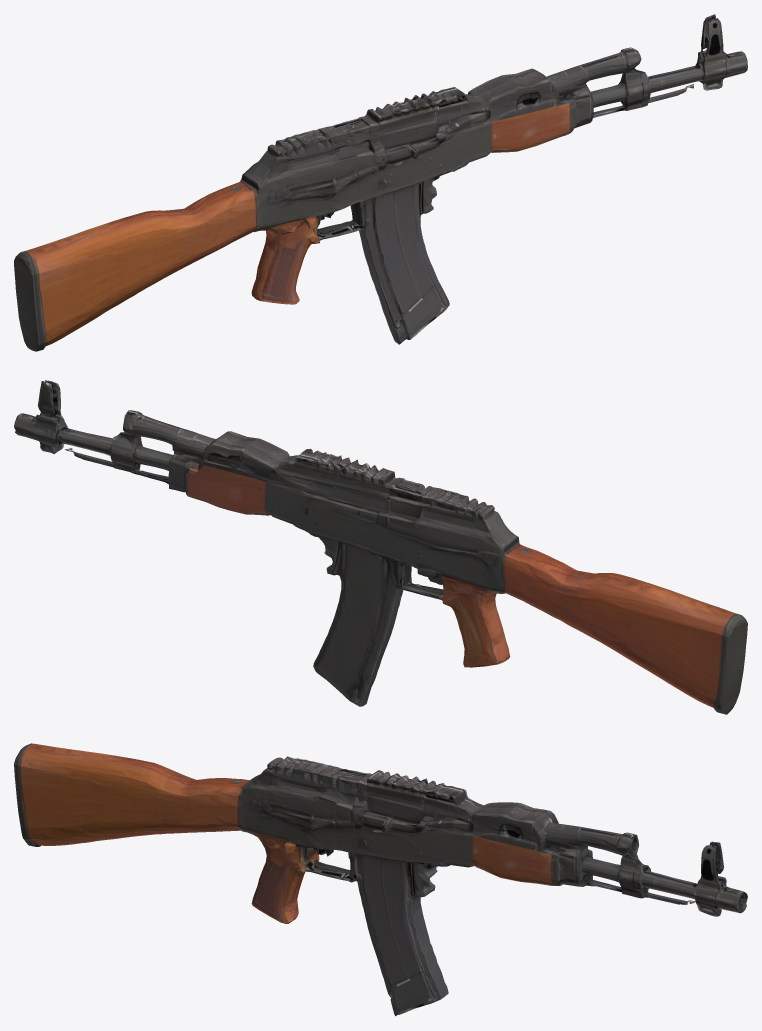
File: ak47_0426071312_texture.fbx
3 renders of one model, top to bottom at view 1: azimuth 30°, elevation 25°; view 2: azimuth 150°, elevation 25°; view 3: azimuth 330°, elevation 25°, orthographic.
Visible parts, largest first — view 1: temp; view 2: temp; view 3: temp.
Part boxes in pixels (x1,y1,x2,y2): temp: (14,14,747,351); temp: (14,380,747,714); temp: (14,743,747,1016).
Bounding box in the file's own units: 200 × 65.71 × 12.92.
1 material, 1 textured.
